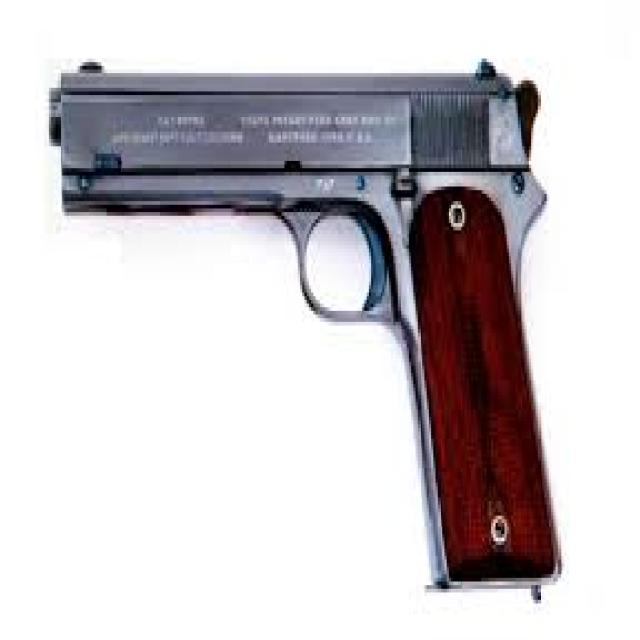gun: (40, 40, 569, 588)
